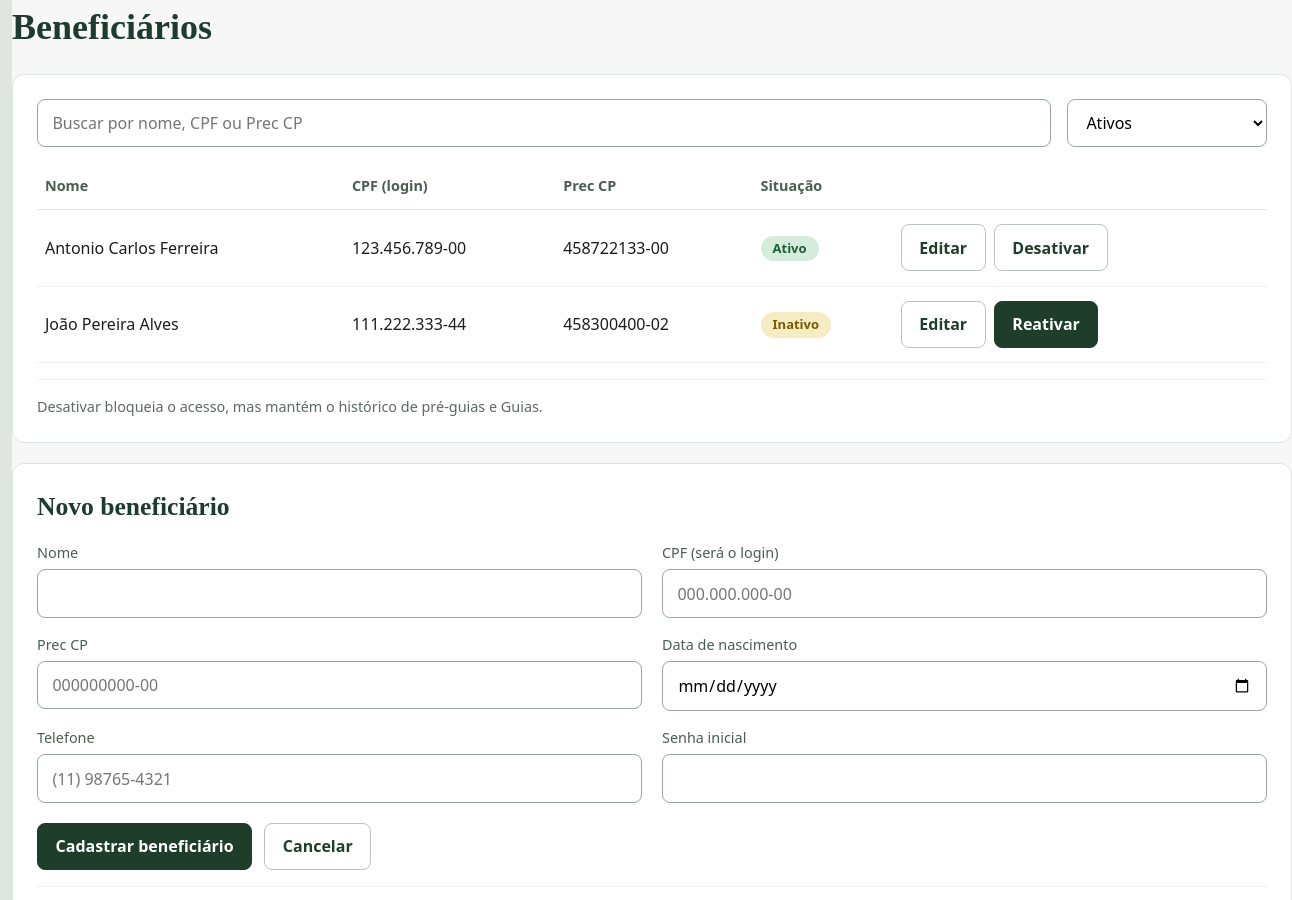
T7-FE · Tela Beneficiários › não envia o cadastro incompleto e mostra os erros
expect the text "Antonio Carlos Ferreira" is shown: met, box [37, 210, 344, 286]
Step 1. Click the button "Cadastrar beneficiário" → (145, 846), box [37, 823, 252, 870]
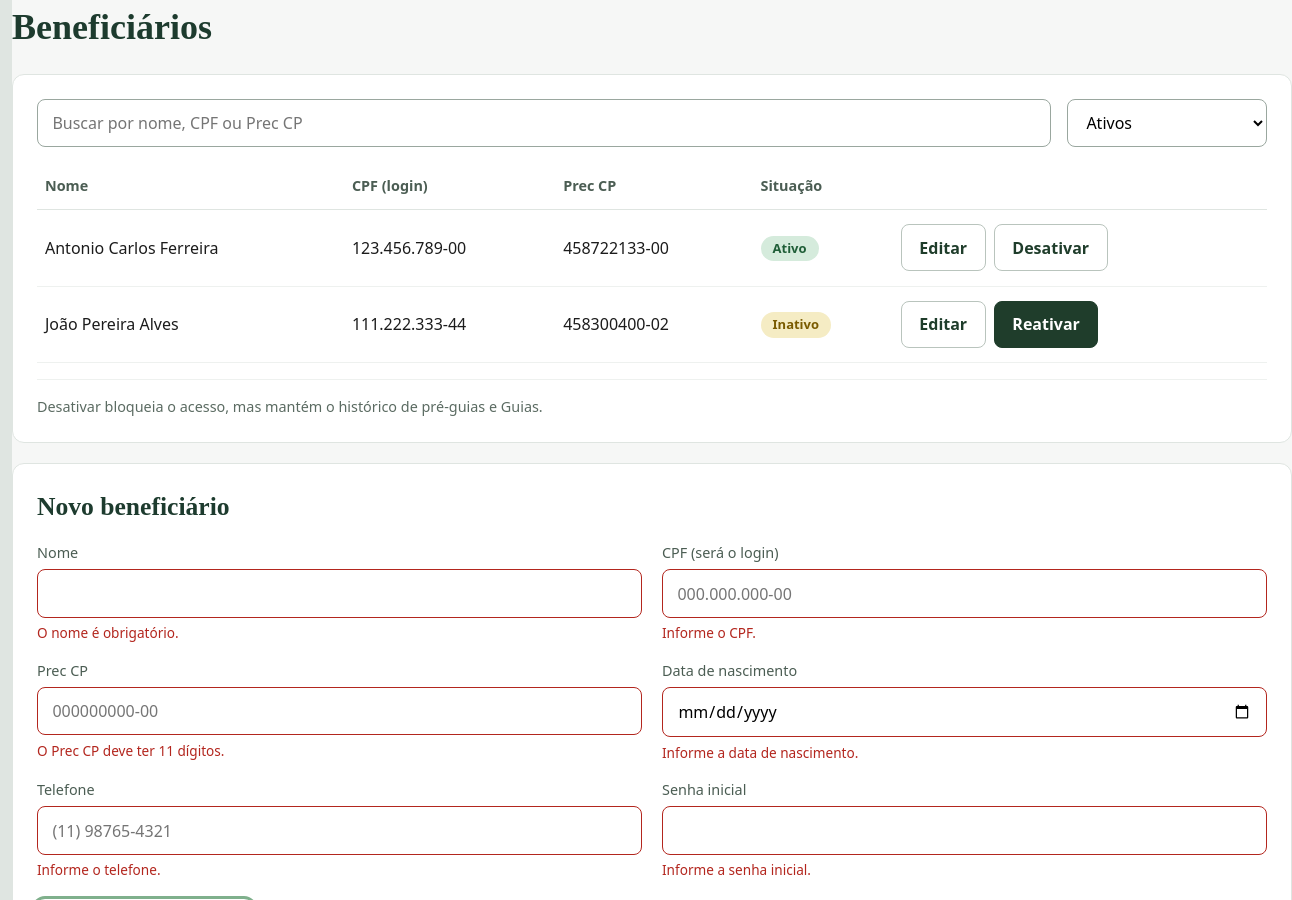
expect the text "O nome é obrigatório." is shown: met, box [37, 623, 179, 642]
